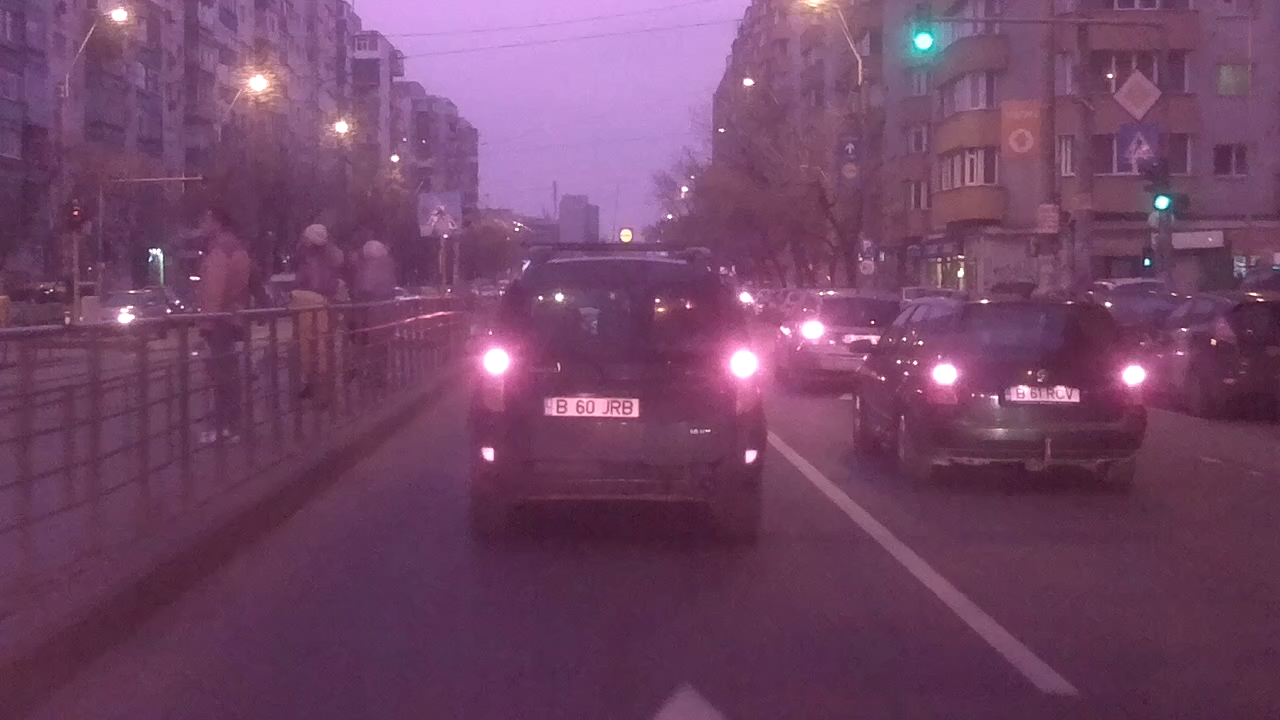license-plate: (541, 393, 643, 420), (1002, 384, 1083, 405)
